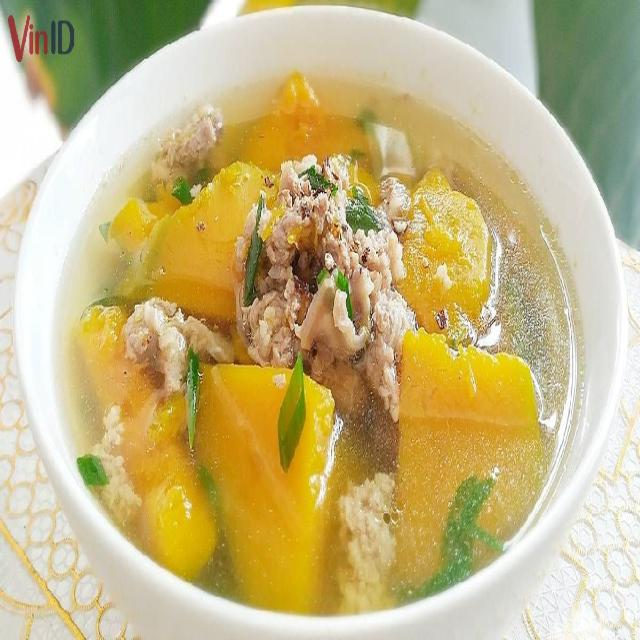canh bi do: (61, 74, 578, 615)
